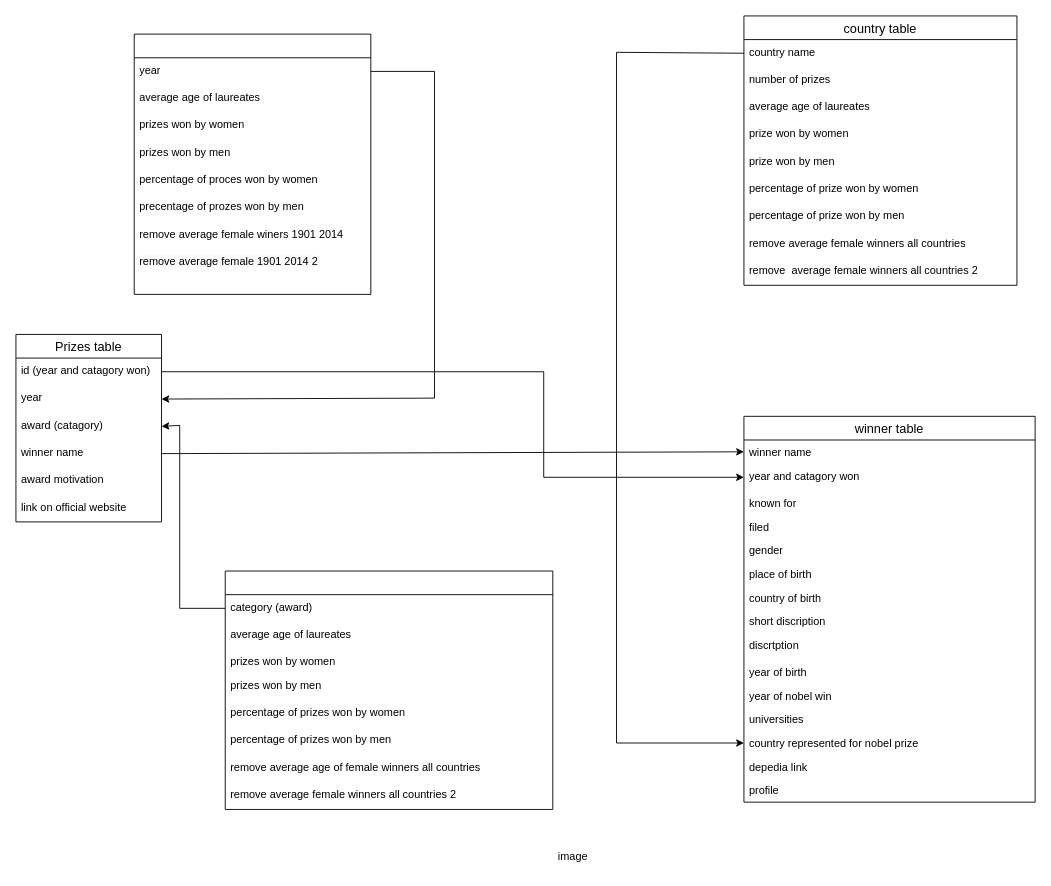
The diagram is 1051 pixels wide and 886 high, and some of its shapes have lost their labels. Here are the shapes that lost their labels. From the top down, the box of each, then its label:
(133, 33, 371, 294): year table
(224, 570, 553, 809): Award Categories
